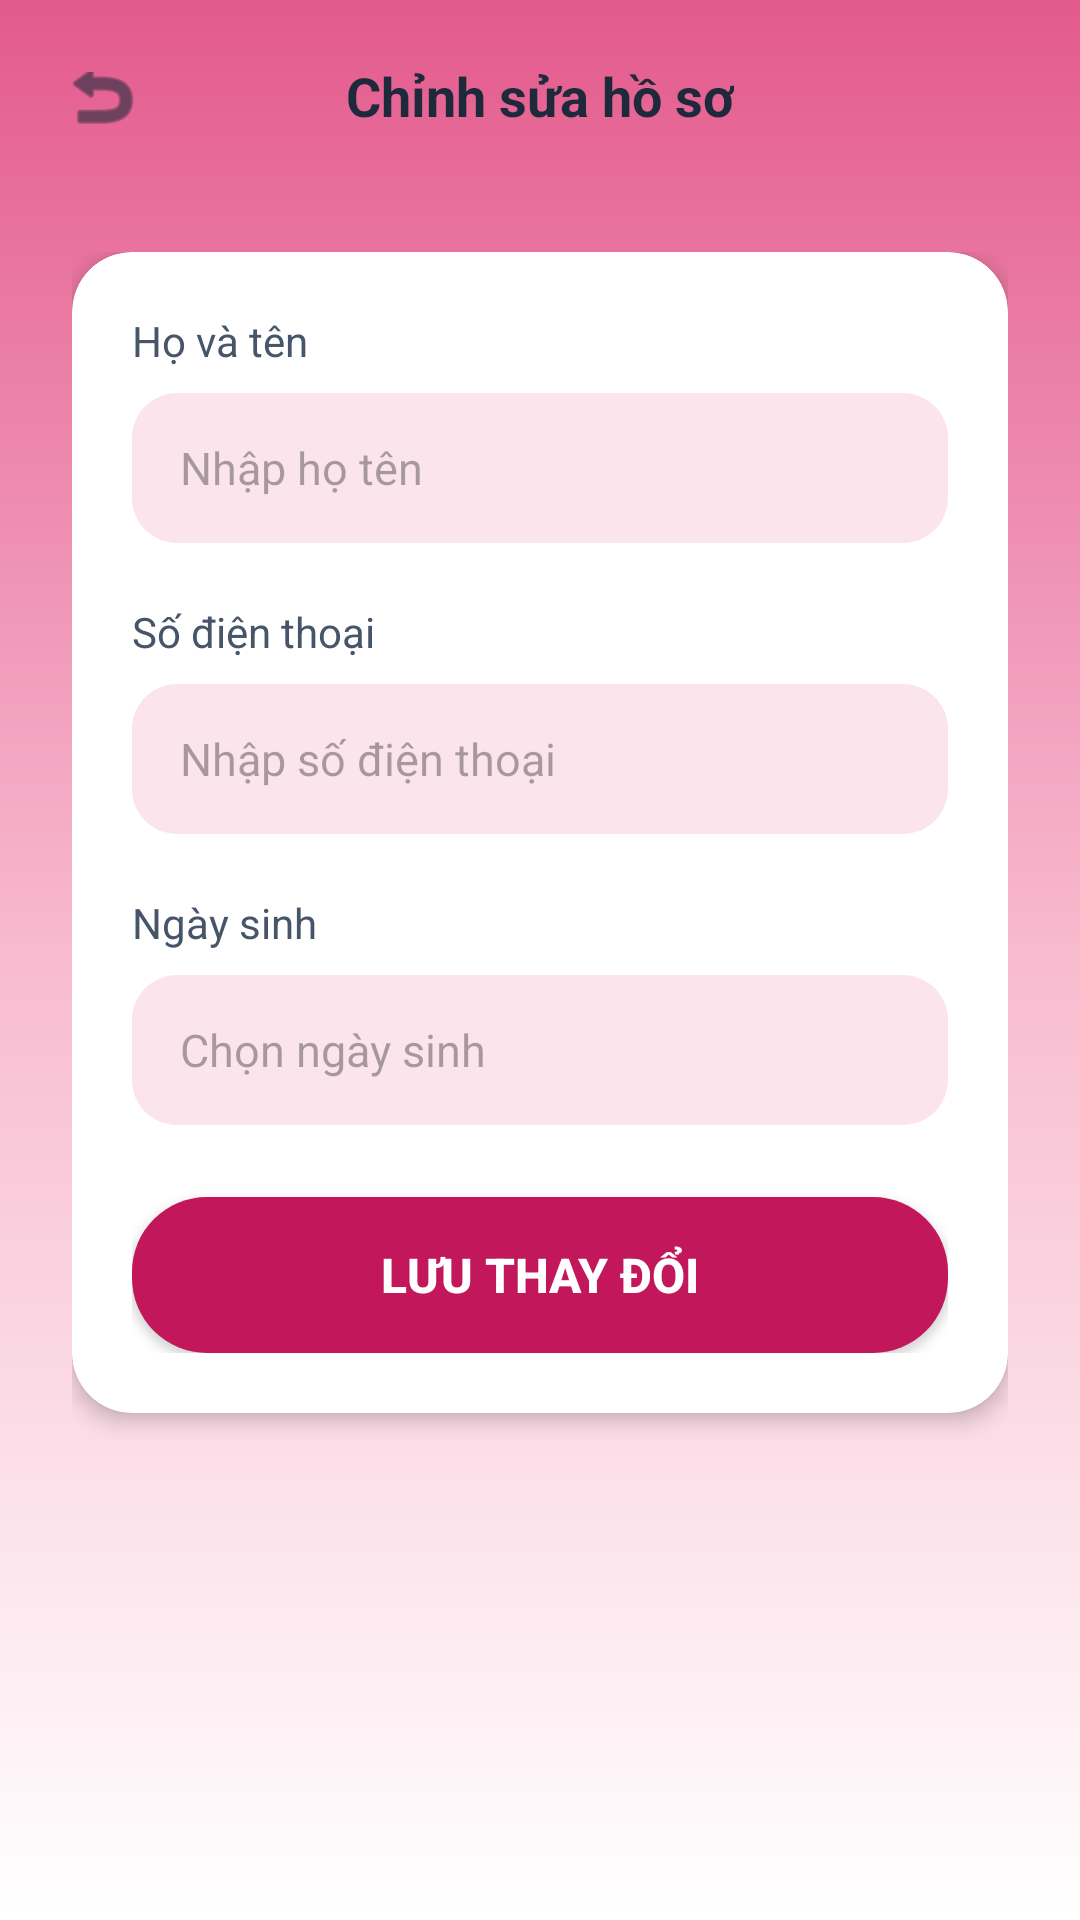

Icon bounding boxes for this 1080x1920 phone screenshot, format bbox(x1, y1, x2, y2):
revert: bbox(73, 72, 133, 124)
